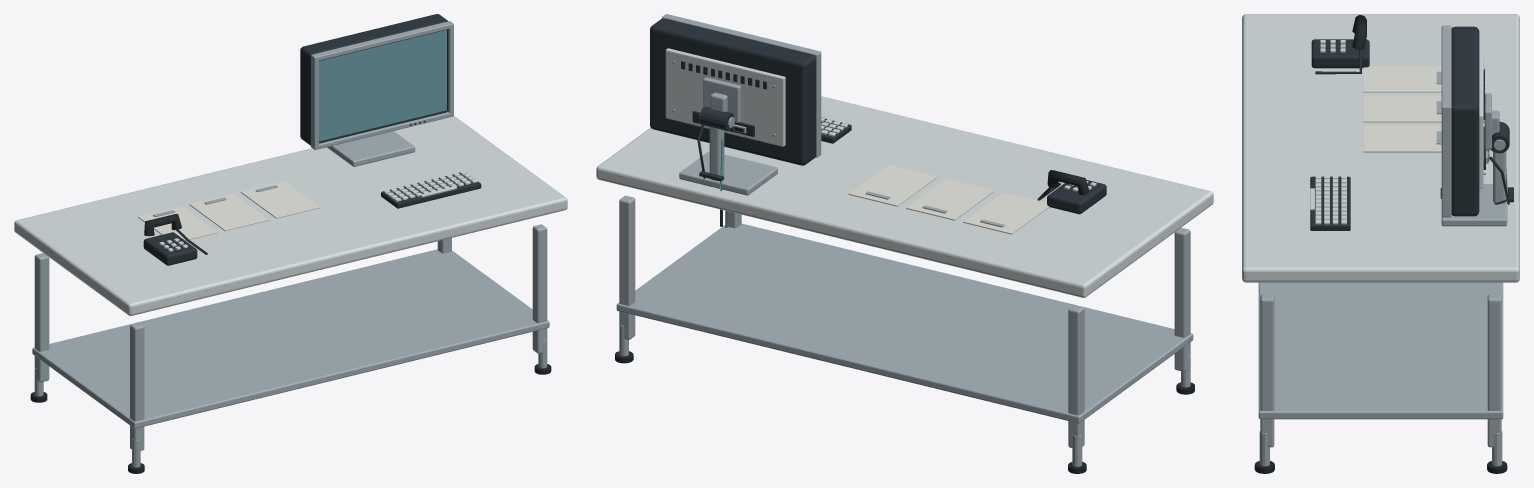
The model's file is RD_TransferNurseDesk.fbx.
The picture shows the model from 3 angles, left to right: view 1: azimuth 30°, elevation 25°; view 2: azimuth 150°, elevation 25°; view 3: azimuth 270°, elevation 25°; orthographic projection. The views are drawn at different scales.
Visible parts, largest first — view 1: RD_TransferNurseDesk; view 2: RD_TransferNurseDesk; view 3: RD_TransferNurseDesk.
Part boxes in pixels (x1,y1,x2,y2): RD_TransferNurseDesk: [14, 14, 567, 473]; RD_TransferNurseDesk: [596, 14, 1213, 473]; RD_TransferNurseDesk: [1242, 14, 1519, 473].
Bounding box in the file's own units: 240 × 155 × 110.
